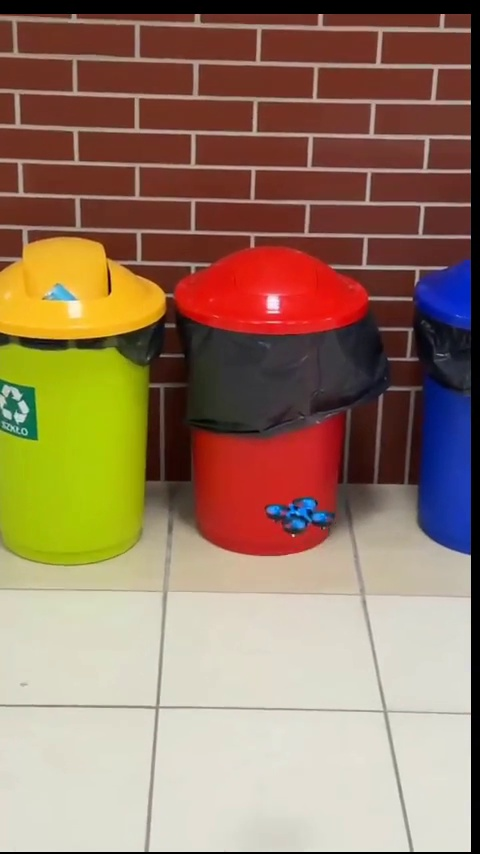drone: (269, 495, 335, 538)
